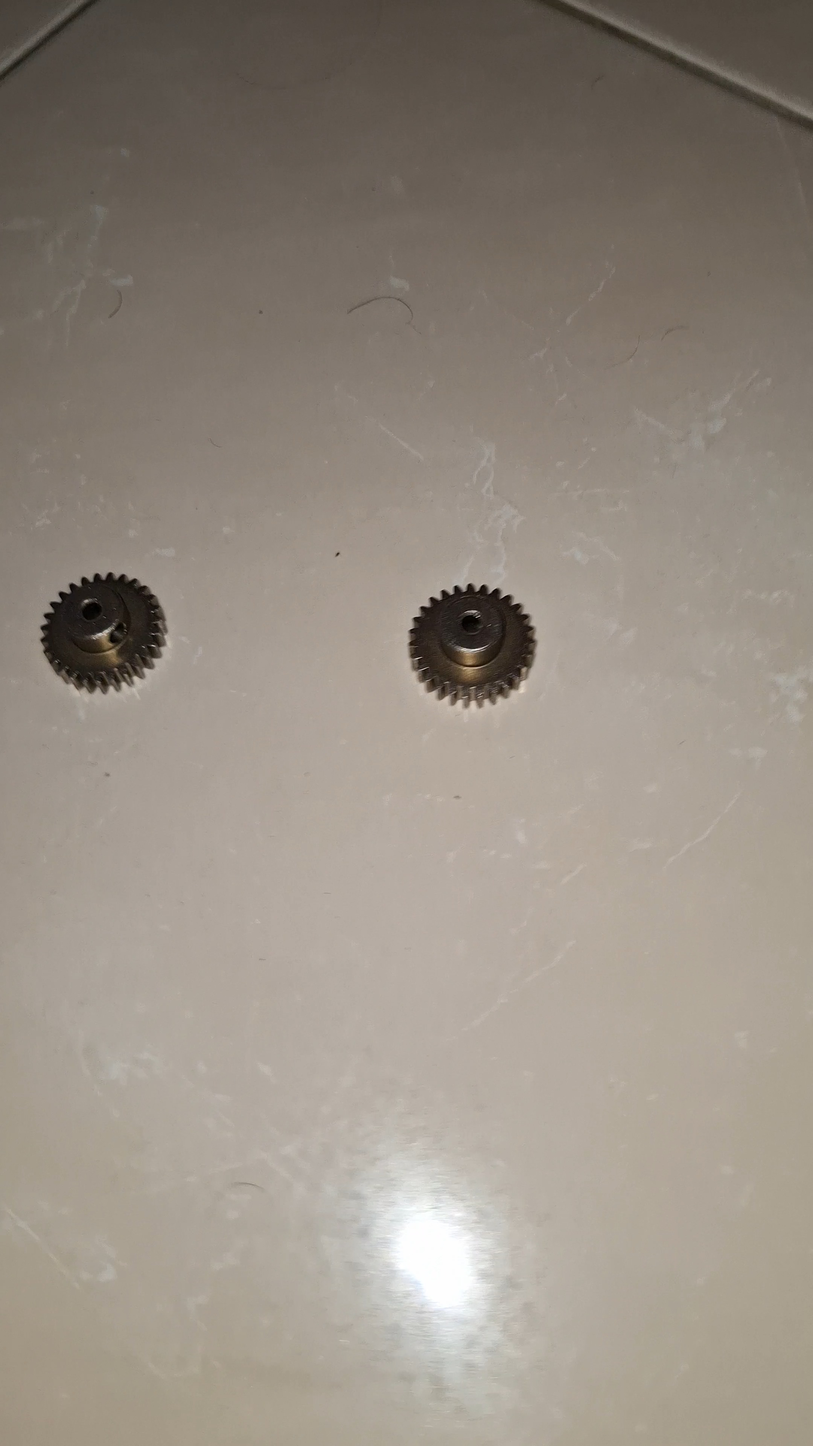spur gear: (410, 584, 534, 704), (42, 573, 166, 692)
